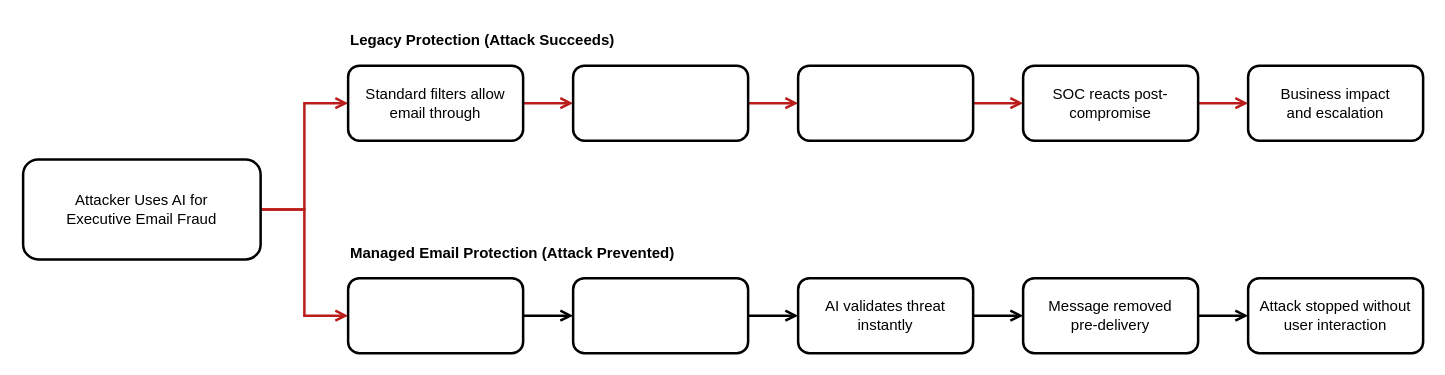
This 1445x375 diagram has some shape labels left out. Each missing label, with the centre of its shape:
"Anomalies detected across multiple signals" belongs at (660,315).
"Real-time behavioral and language analysis" belongs at (435,315).
"User complies → breach occurs" belongs at (885,102).
"User receives fraudulent request" belongs at (660,102).
